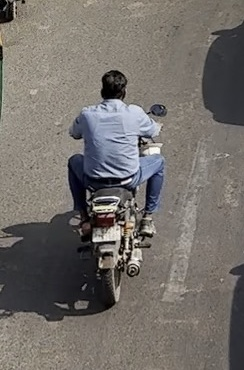BikeWithRider: (59, 65, 172, 310)
NoHelmet: (93, 65, 134, 105)
